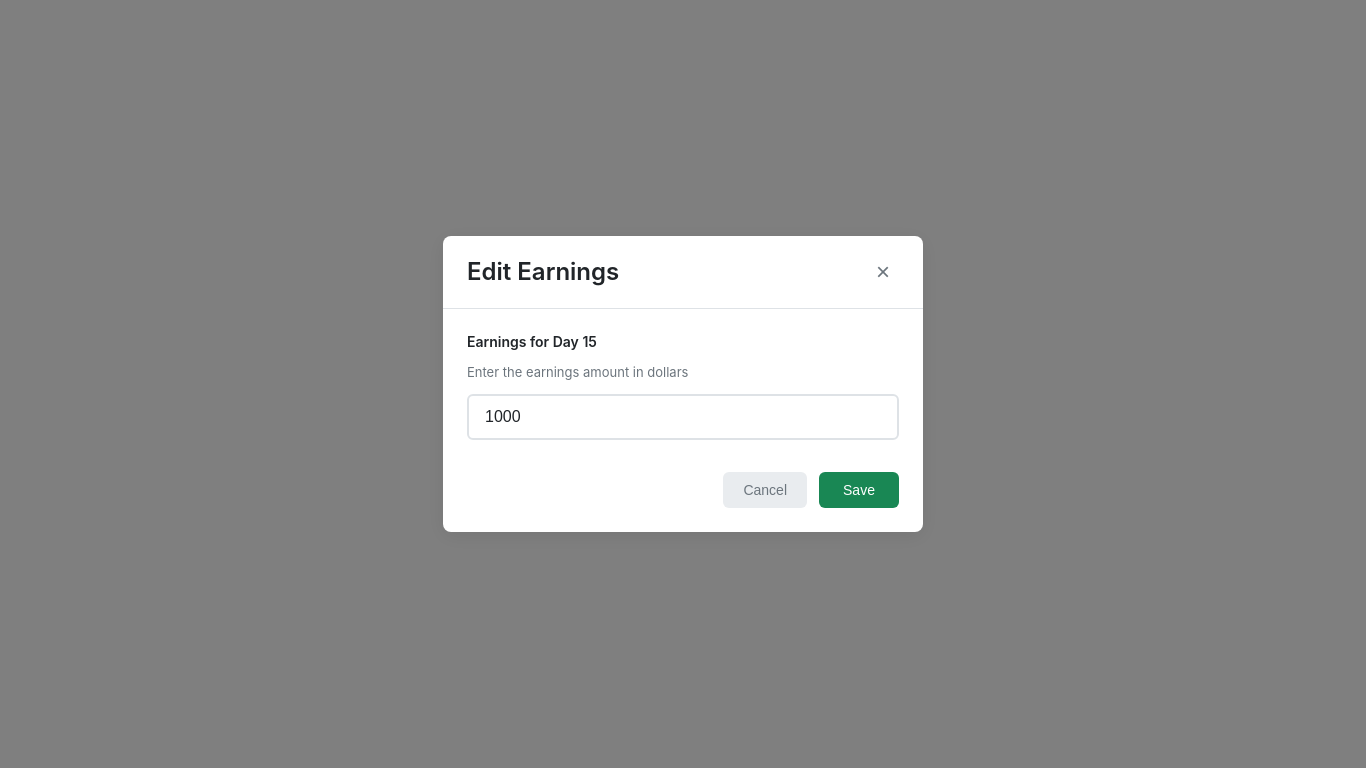
Scenario: EditModal › Save and Cancel › should show loading state during save
Replace the text in the number field with "1500": (683, 417) [467, 394, 899, 440]
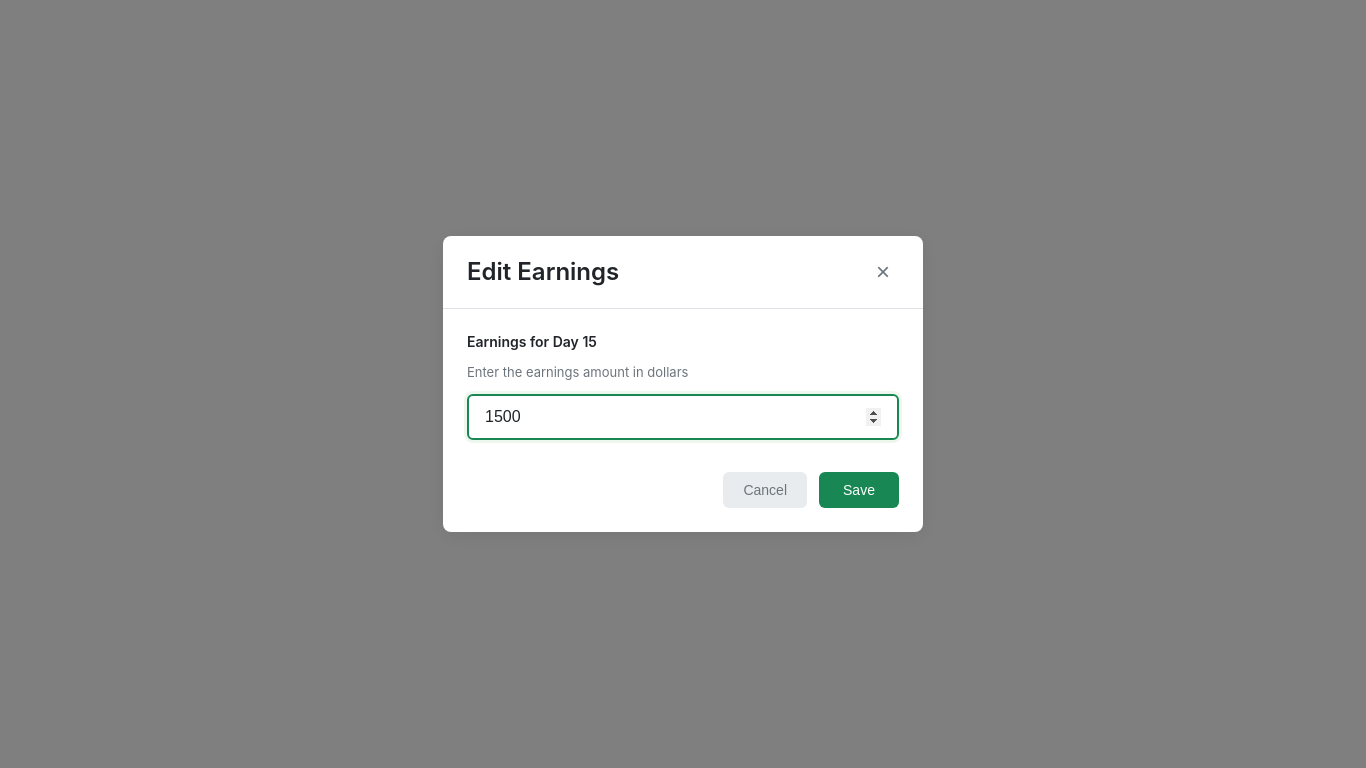
Click the button "Save": (859, 490) [819, 472, 899, 508]
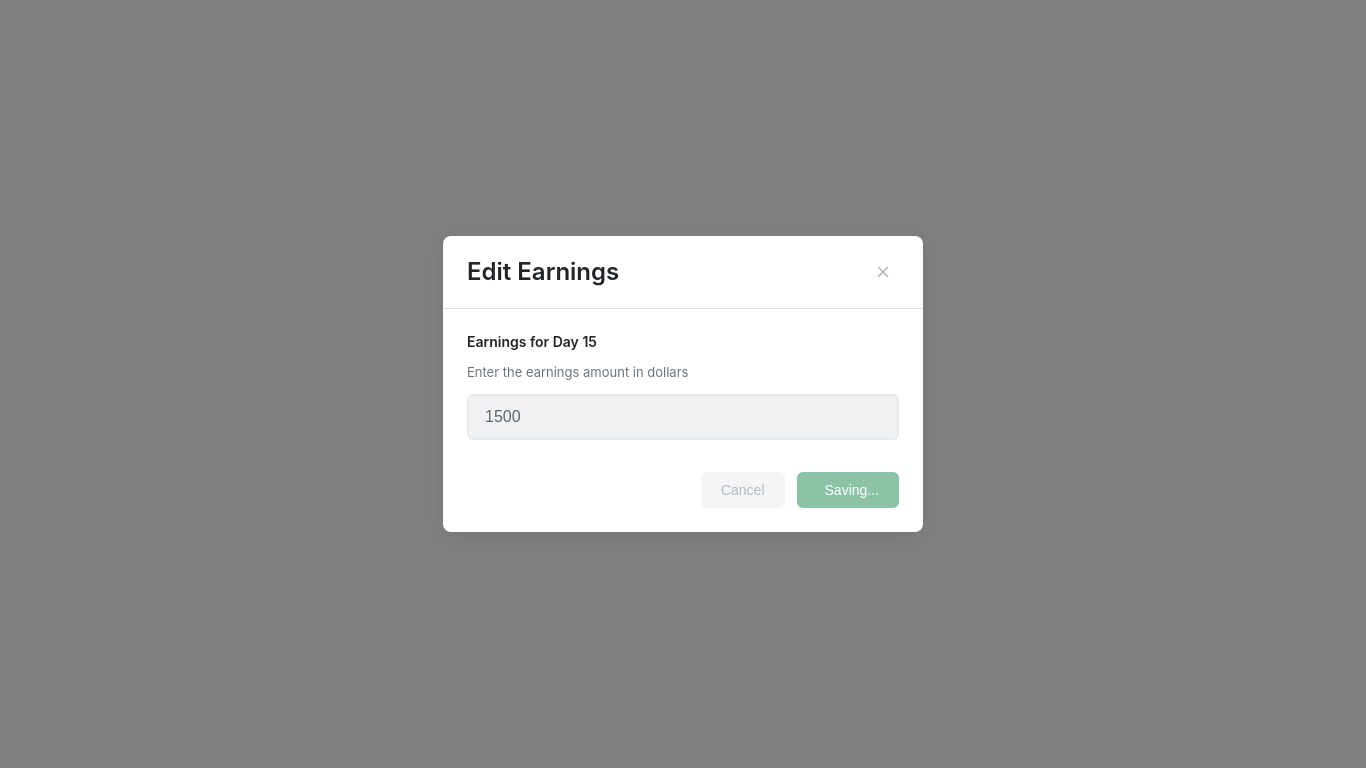
Expected: the button "Saving..." is disabled, [796, 472, 899, 508]
Expected: the button "Cancel" is disabled, [701, 472, 784, 508]
